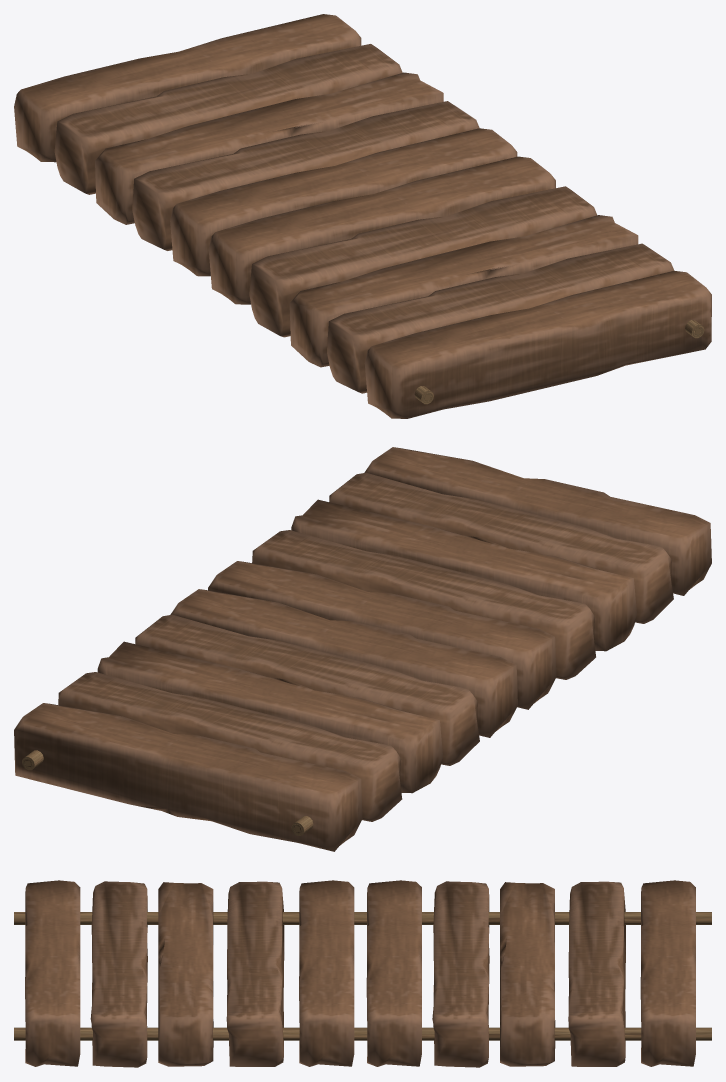
Rendered from SM_bridge_platform.fbx.
3 views of the same model, one above another, from view 1: azimuth 30°, elevation 25°; view 2: azimuth 150°, elevation 25°; view 3: azimuth 270°, elevation 25° (orthographic). The views are drawn at different scales.
Parts seen in each view (by area): view 1: bridge_platform; view 2: bridge_platform; view 3: bridge_platform.
Part boxes in pixels (box(x1,y1,x2,y2)): bridge_platform: box(14, 14, 711, 418); bridge_platform: box(14, 447, 711, 851); bridge_platform: box(14, 880, 711, 1067).
Size of the model in its own units: 176 by 31.39 by 379.
